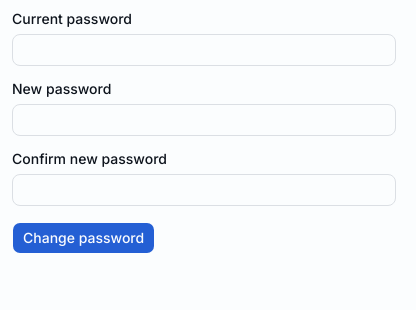
PasswordForm › refuses a password shorter than the floor
In the password field labelled "Current password": (204,50) top-left (12, 34), bottom-right (396, 66), type "old-password"
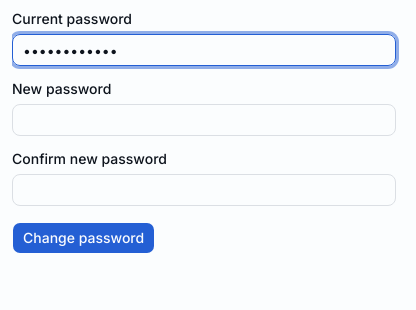
In the password field labelled "New password": (204,120) top-left (12, 104), bottom-right (396, 136), type "short"
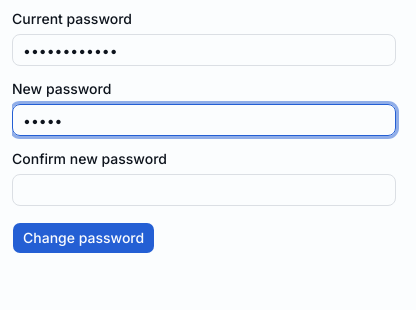
In the password field labelled "Confirm new password": (204,190) top-left (12, 174), bottom-right (396, 206), type "short"
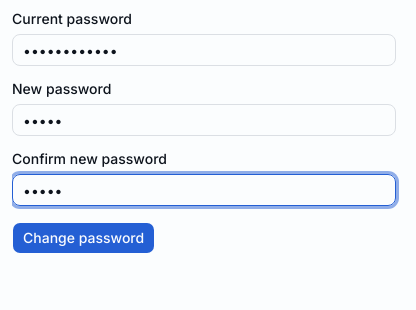
Click the button "Change password": (84,238) top-left (12, 222), bottom-right (155, 254)
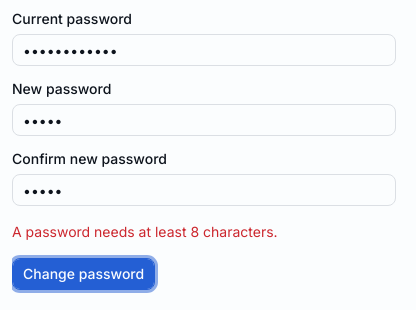
Check: the message shows "at least 8 characters", box top-left (12, 223), bottom-right (278, 240)
